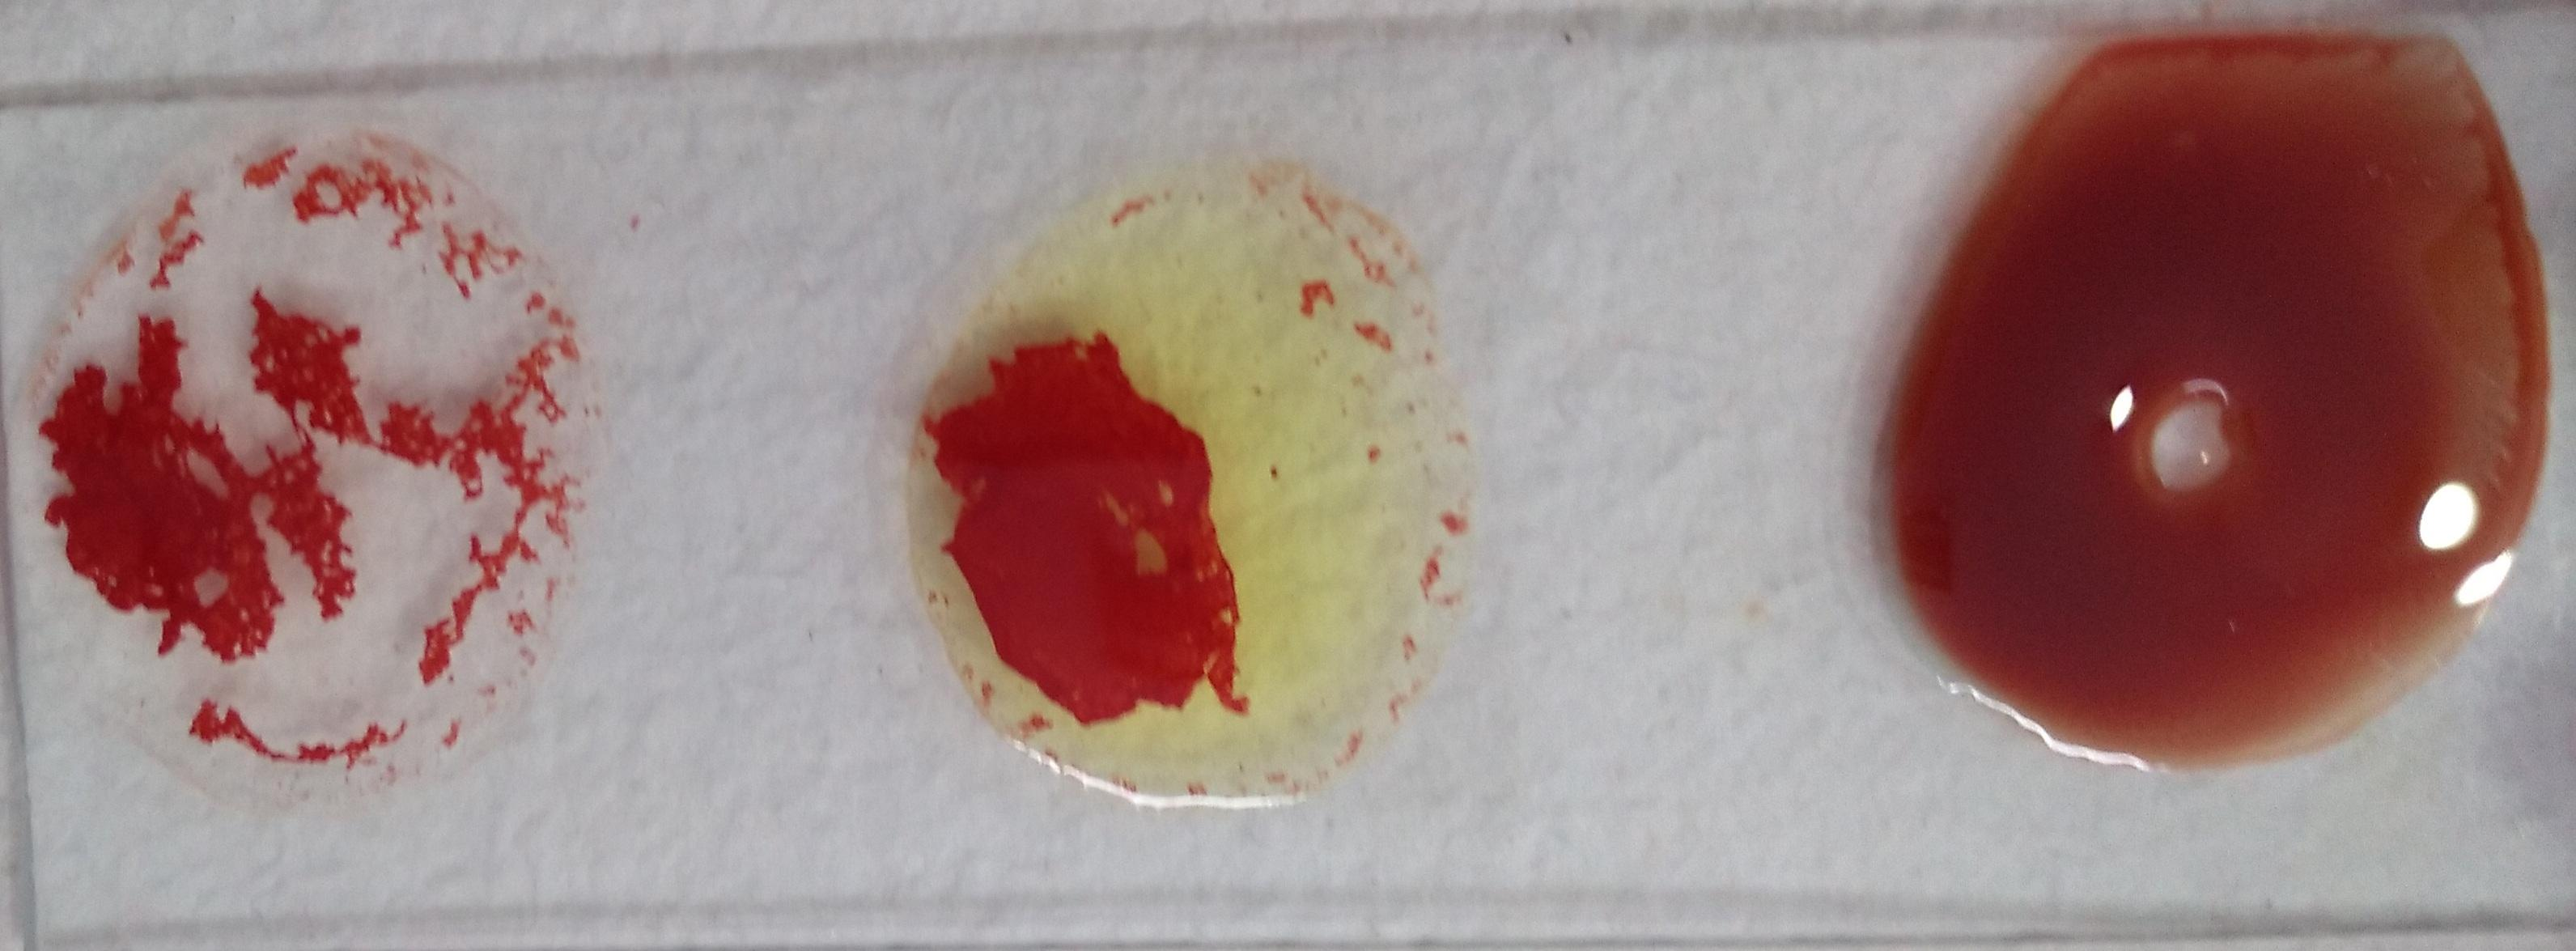B: (862, 148, 1470, 806)
D: (54, 140, 554, 828)
